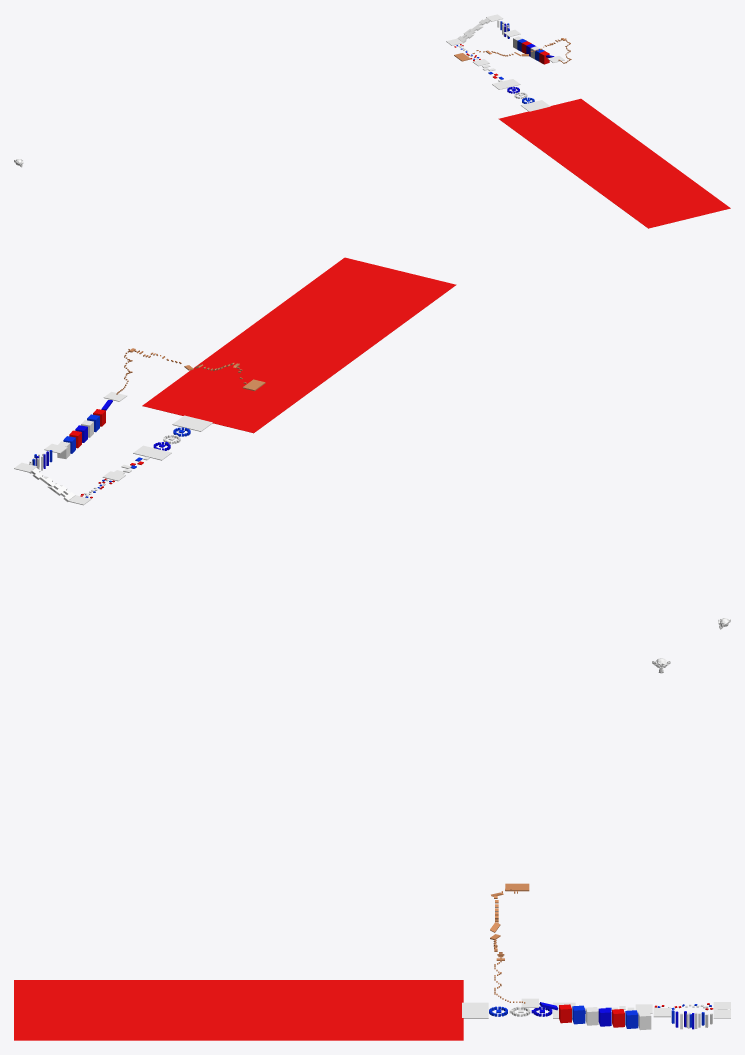
The picture shows the model from 3 angles, top to bottom: view 1: azimuth 30°, elevation 25°; view 2: azimuth 150°, elevation 25°; view 3: azimuth 270°, elevation 25°; orthographic projection. The views are drawn at different scales.
Parts seen in each view (by area): view 1: Box; view 2: Box; view 3: Box.
Boxes of the visible parts, x1,y1,x2,y2 form: Box: (498,98,730,228); Box: (142,257,456,433); Box: (14,980,463,1040).
Bounding box in the file's own units: 3538 × 402 × 2899.
